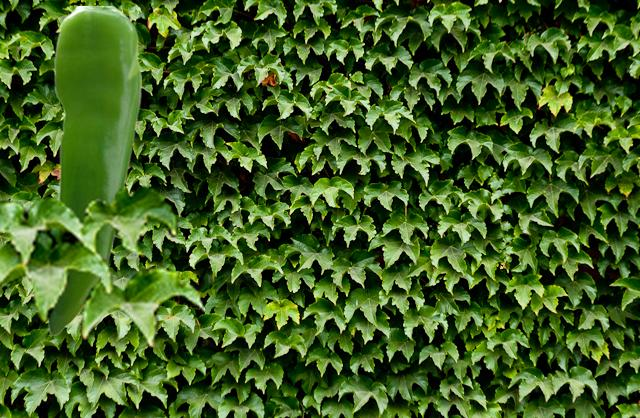green_chili: (47, 6, 140, 334)
